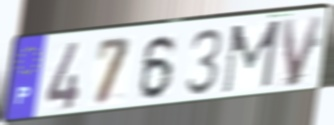3: (184, 27, 225, 97)
4: (44, 38, 82, 114)
6: (138, 33, 179, 101)
7: (94, 34, 135, 109)
M: (219, 17, 282, 97)
V: (279, 12, 326, 90)
